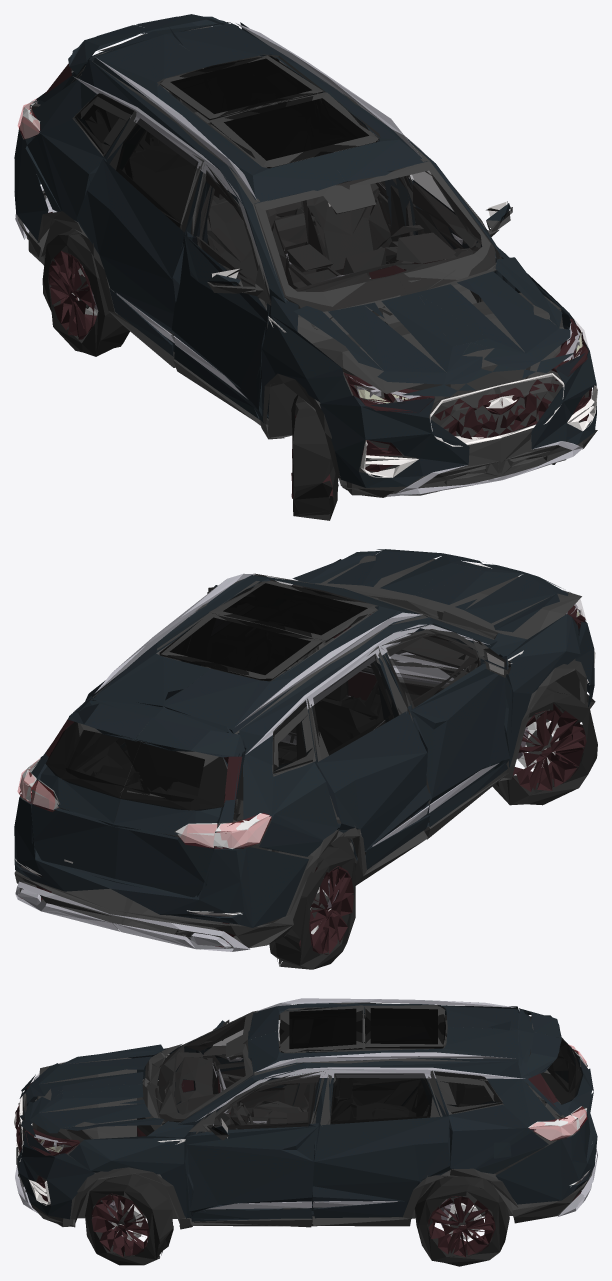
Rendered from tiggo8.glb.
3 views of the same model, one above another, from view 1: azimuth 30°, elevation 25°; view 2: azimuth 150°, elevation 25°; view 3: azimuth 270°, elevation 25° (orthographic). The views are drawn at different scales.
Size of the model in its own units: 2.12 by 1.76 by 4.7.
Materials: 4 (4 with a texture image).
